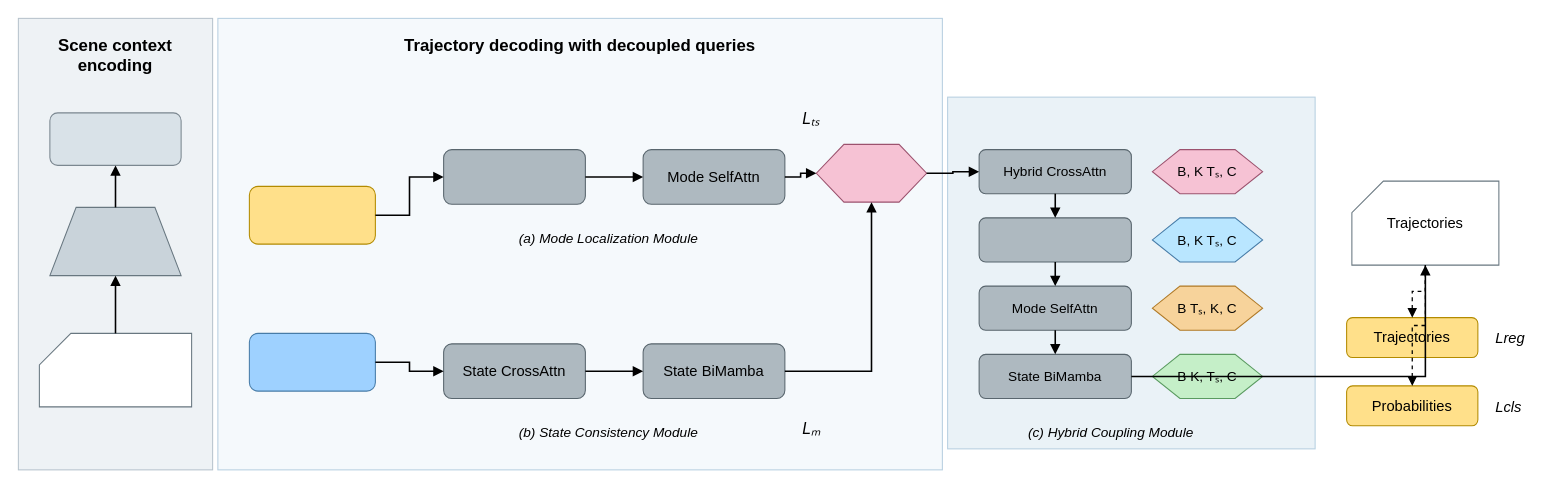
Image size: 1564x488. Some labels were removed from this diagram. The centre of each missing label's shape, as x and y in pixels:
B, K, Tₛ, C: point (871, 172)
Encoder: point (115, 241)
HD Map & Agents: point (115, 369)
Hybrid SelfAttn: point (1054, 239)
Mode CrossAttn: point (514, 176)
Mode Queries: point (311, 214)
Scene Context: point (115, 138)
State Queries: point (311, 361)
